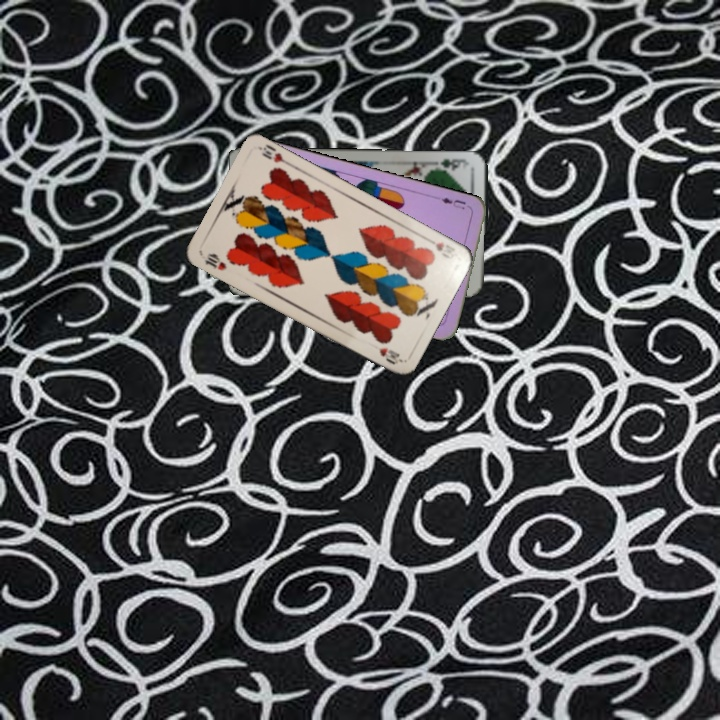EU: (434, 193, 469, 212)
GK: (432, 154, 472, 172)
H10: (422, 234, 459, 262), (201, 249, 229, 273)
